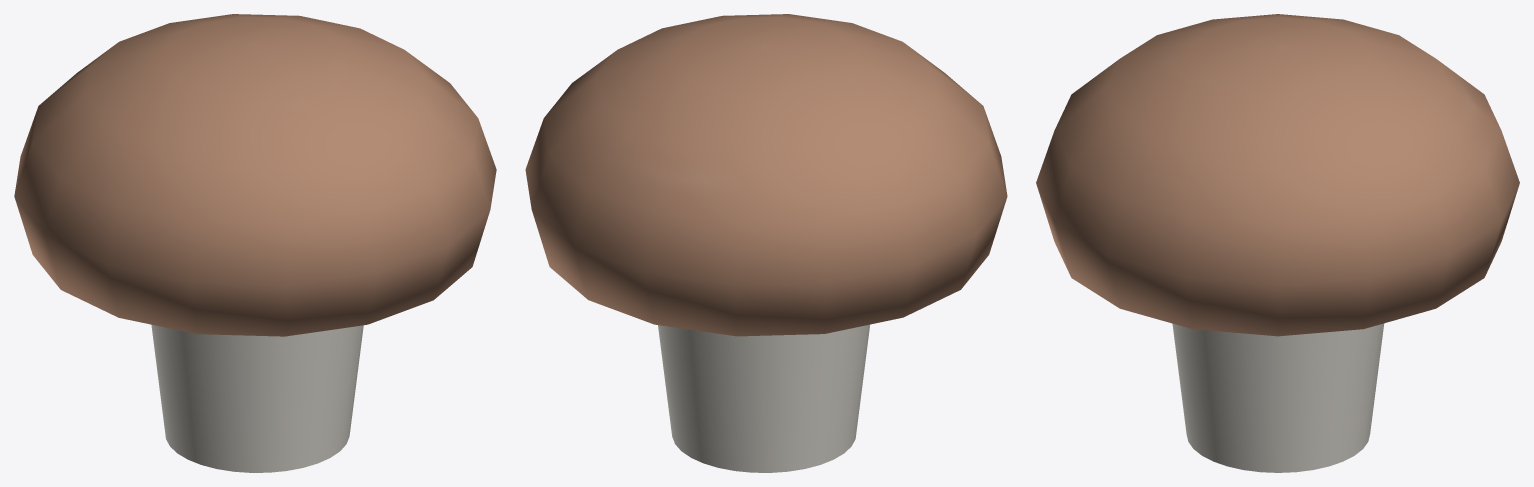
The model's file is mushroom.glb.
3 views of the same model, side by side, from view 1: azimuth 30°, elevation 25°; view 2: azimuth 150°, elevation 25°; view 3: azimuth 270°, elevation 25° (orthographic).
Visible parts, largest first — view 1: Sphere.001, Cylinder.001; view 2: Sphere.001, Cylinder.001; view 3: Sphere.001, Cylinder.001.
Boxes of the visible parts, bbox=[...] form: Sphere.001: bbox=[14, 14, 496, 336]; Cylinder.001: bbox=[151, 324, 363, 472]; Sphere.001: bbox=[525, 14, 1007, 336]; Cylinder.001: bbox=[658, 324, 869, 472]; Sphere.001: bbox=[1036, 14, 1519, 336]; Cylinder.001: bbox=[1172, 323, 1384, 472].
Size of the model in its own units: 0.5191 by 0.4578 by 0.5191.
1 material, 1 textured.
